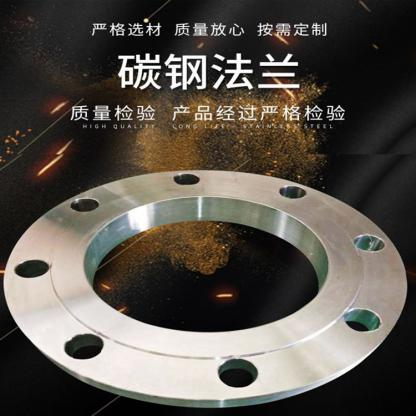FOD: (1, 163, 410, 409)
